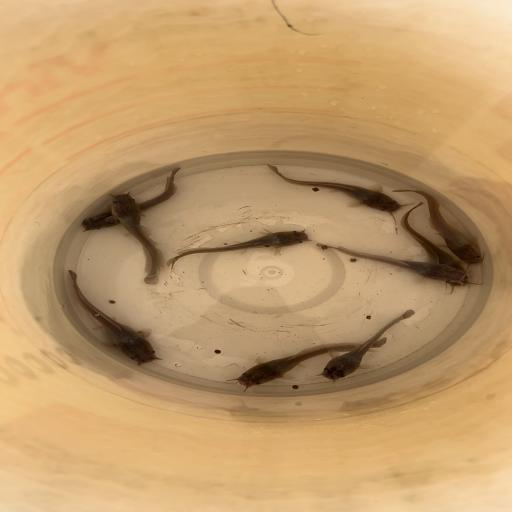lele: (66, 269, 158, 365), (234, 337, 388, 388), (390, 189, 485, 265), (320, 308, 416, 382), (264, 163, 402, 214), (77, 167, 183, 233), (315, 242, 469, 284), (399, 202, 471, 288), (165, 228, 311, 268), (108, 192, 166, 284)
